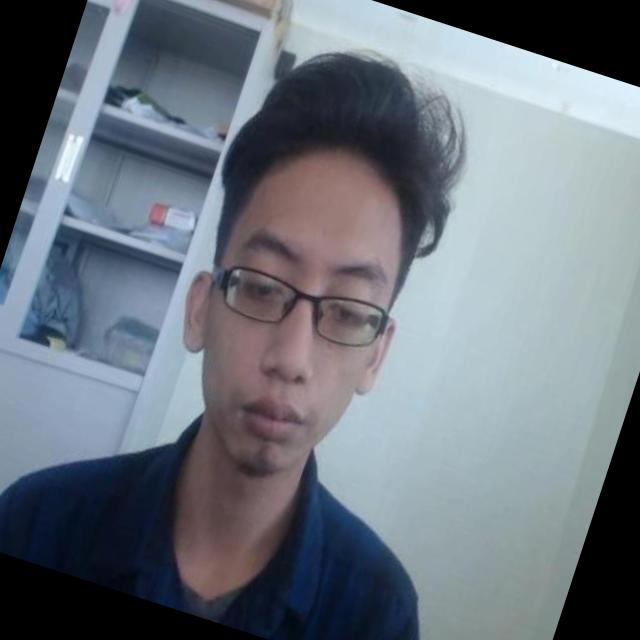bareface: (112, 34, 520, 528)
